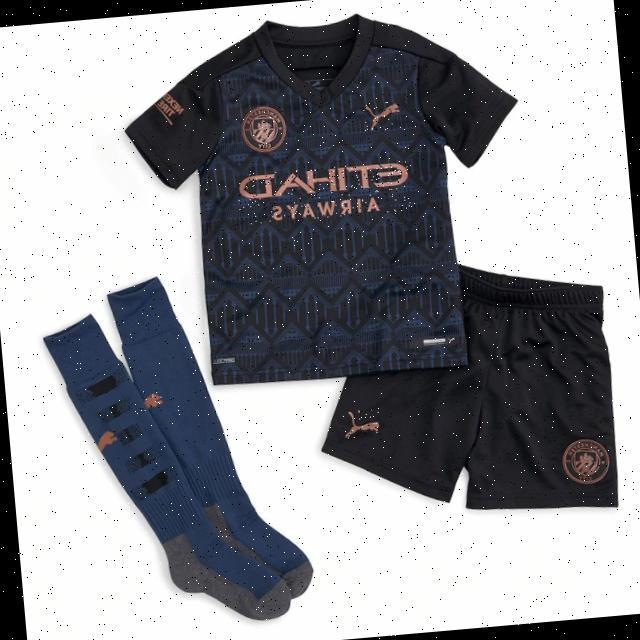Etihad Airways: (237, 160, 412, 225)
Puma: (340, 408, 380, 439), (362, 101, 400, 132), (141, 389, 164, 412), (96, 429, 118, 452)
